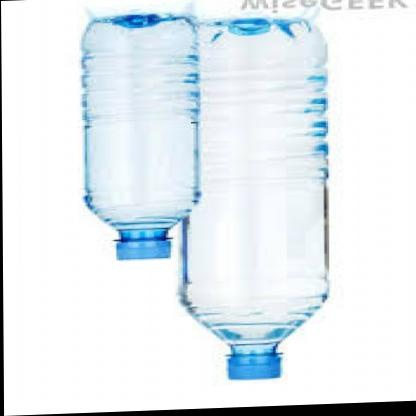trash: (81, 0, 327, 378), (183, 0, 327, 378), (82, 13, 200, 258)
